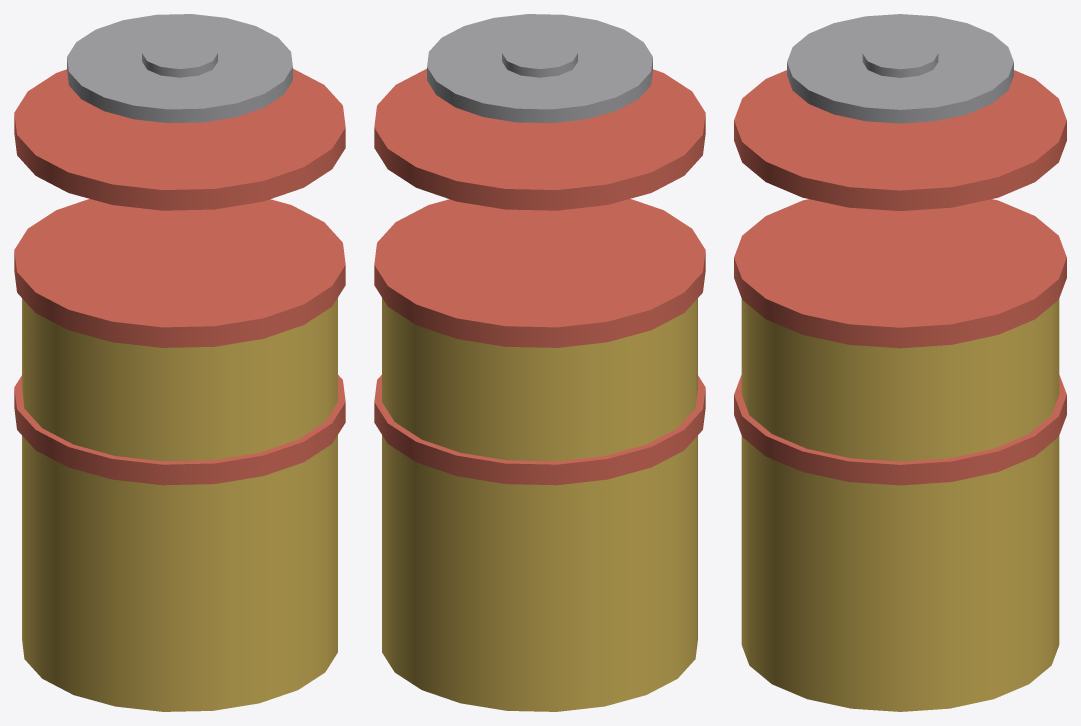
File: barrel.glb
3 renders of one model, left to right at view 1: azimuth 30°, elevation 25°; view 2: azimuth 150°, elevation 25°; view 3: azimuth 270°, elevation 25°, orthographic.
Visible parts, largest first — view 1: Barrel; view 2: Barrel; view 3: Barrel.
Boxes of the visible parts, box(x1,y1,x2,y2) form: Barrel: box(14, 14, 345, 711); Barrel: box(374, 14, 705, 711); Barrel: box(734, 14, 1066, 711).
Bounding box in the file's own units: 0.88 × 1.73 × 0.88.
